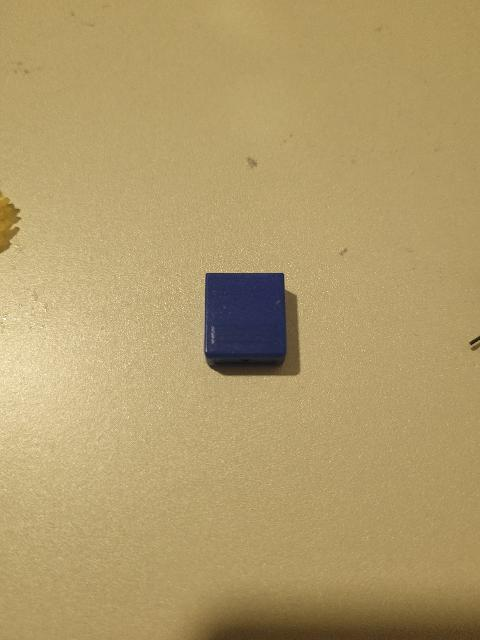Plastik: (199, 269, 297, 374)
